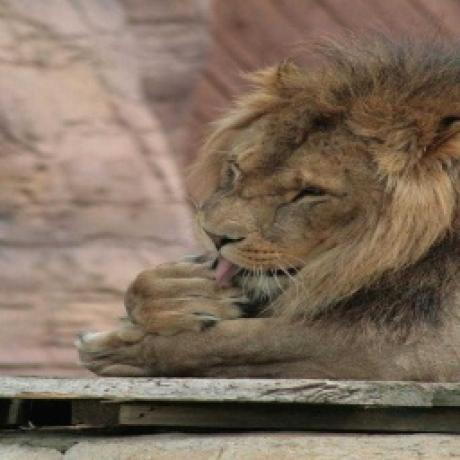Lion: (73, 40, 460, 382)
